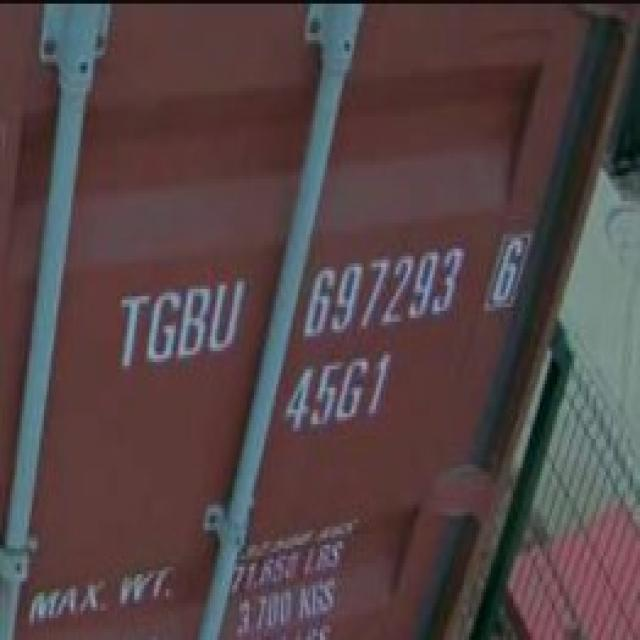dv: (487, 231, 530, 313)
owner: (105, 268, 248, 380)
serial: (298, 241, 463, 342)
size: (274, 349, 391, 438)
